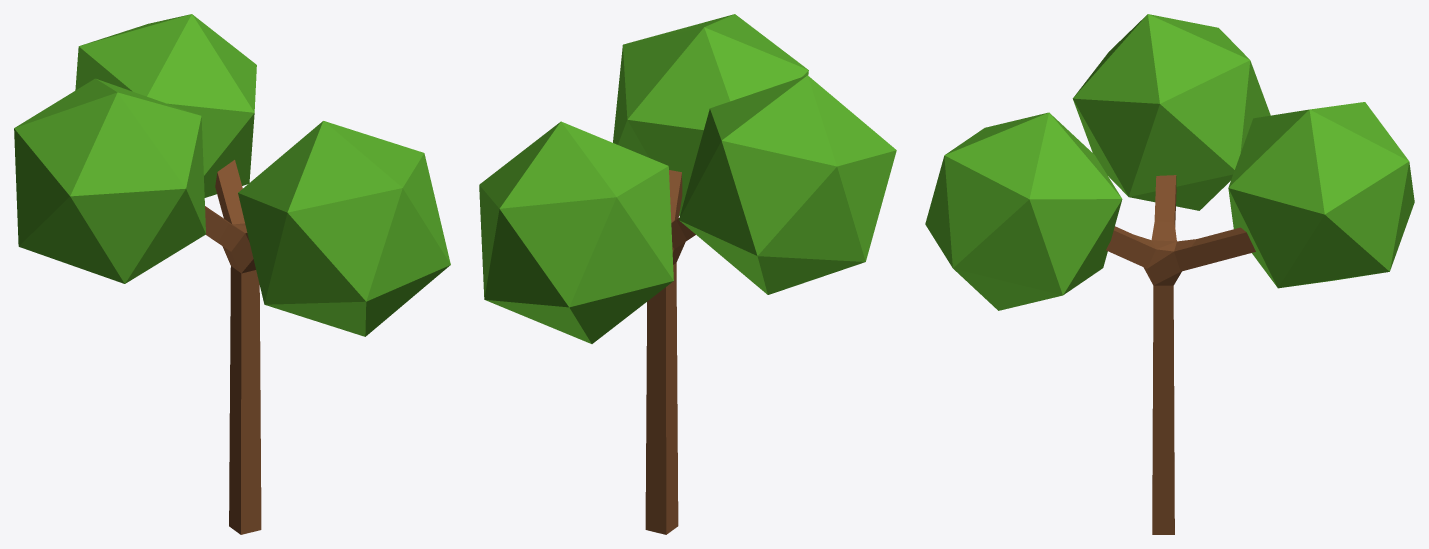
Rendered from Oak3.fbx.
The picture shows the model from 3 angles, left to right: view 1: azimuth 30°, elevation 25°; view 2: azimuth 150°, elevation 25°; view 3: azimuth 270°, elevation 25°; orthographic projection. The views are drawn at different scales.
Visible parts, largest first — view 1: Cube.003; view 2: Cube.003; view 3: Cube.003.
Boxes of the visible parts, x1,y1,x2,y2 form: Cube.003: [14, 14, 450, 534]; Cube.003: [479, 14, 896, 534]; Cube.003: [925, 14, 1414, 534].
Size of the model in its own units: 40.88 by 57.43 by 56.25.
